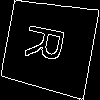R: (24, 21, 74, 66)
